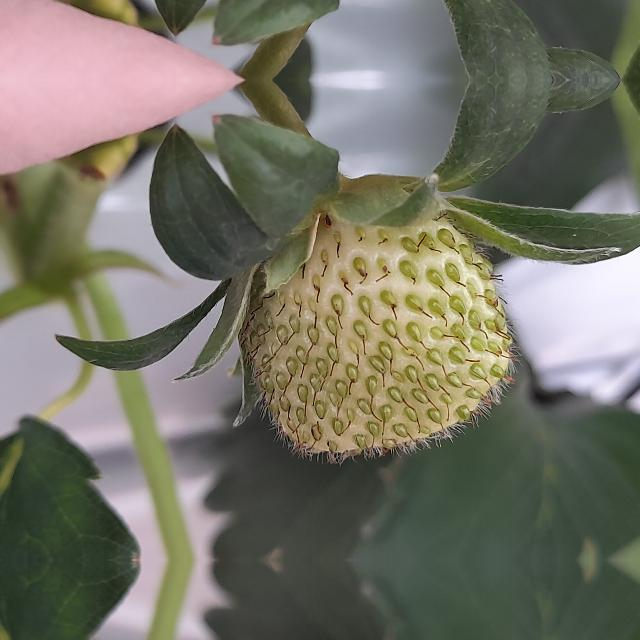Health_25: (240, 200, 522, 466)
